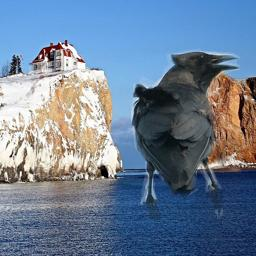Crow: (131, 46, 240, 220)
